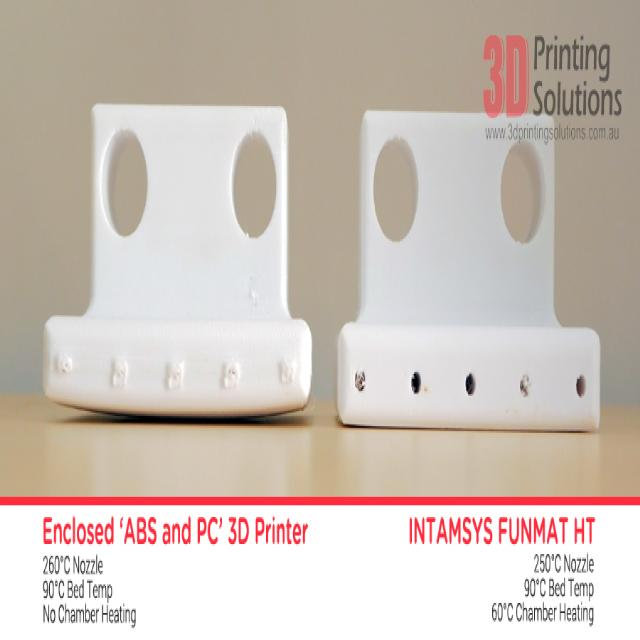warping: (43, 377, 167, 421), (198, 390, 306, 423)
